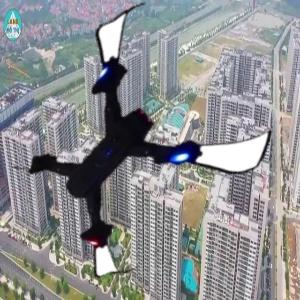drone: (11, 16, 248, 253)
